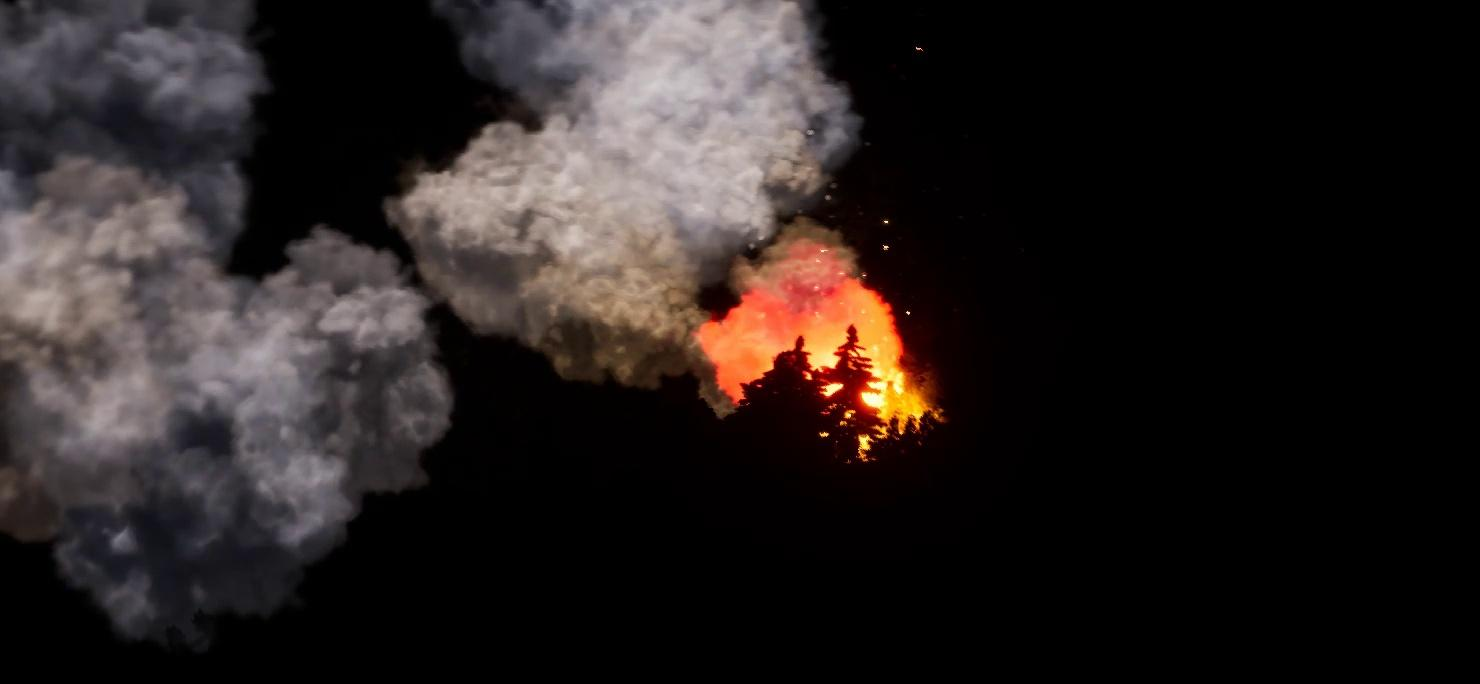fire: (695, 242, 939, 458)
smoke: (0, 0, 862, 645)
